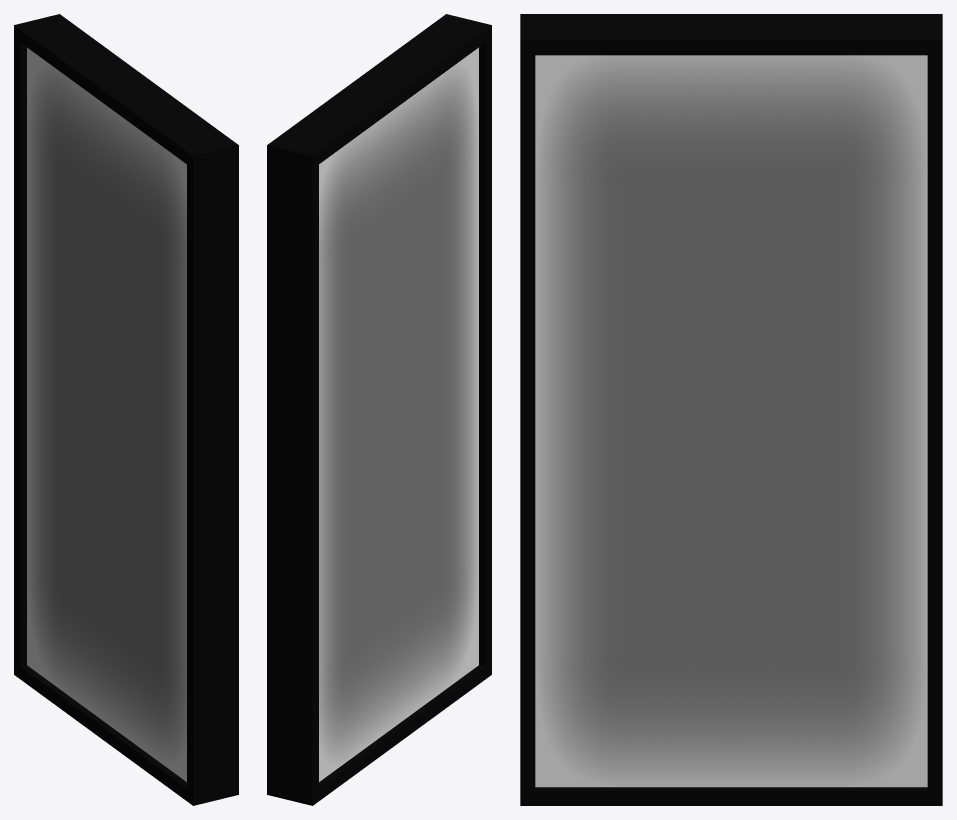
File: Portal_Door.fbx
3 views of the same model, side by side, from view 1: azimuth 30°, elevation 25°; view 2: azimuth 150°, elevation 25°; view 3: azimuth 270°, elevation 25° (orthographic). The views are drawn at different scales.
Visible parts, largest first — view 1: Portal_Door; view 2: Portal_Door; view 3: Portal_Door.
Part boxes in pixels (x1=…): Portal_Door: x1=14, y1=14, x2=238, y2=805; Portal_Door: x1=267, y1=14, x2=491, y2=805; Portal_Door: x1=520, y1=14, x2=942, y2=805.
Bounding box in the file's own units: 17.61 × 240 × 120.
